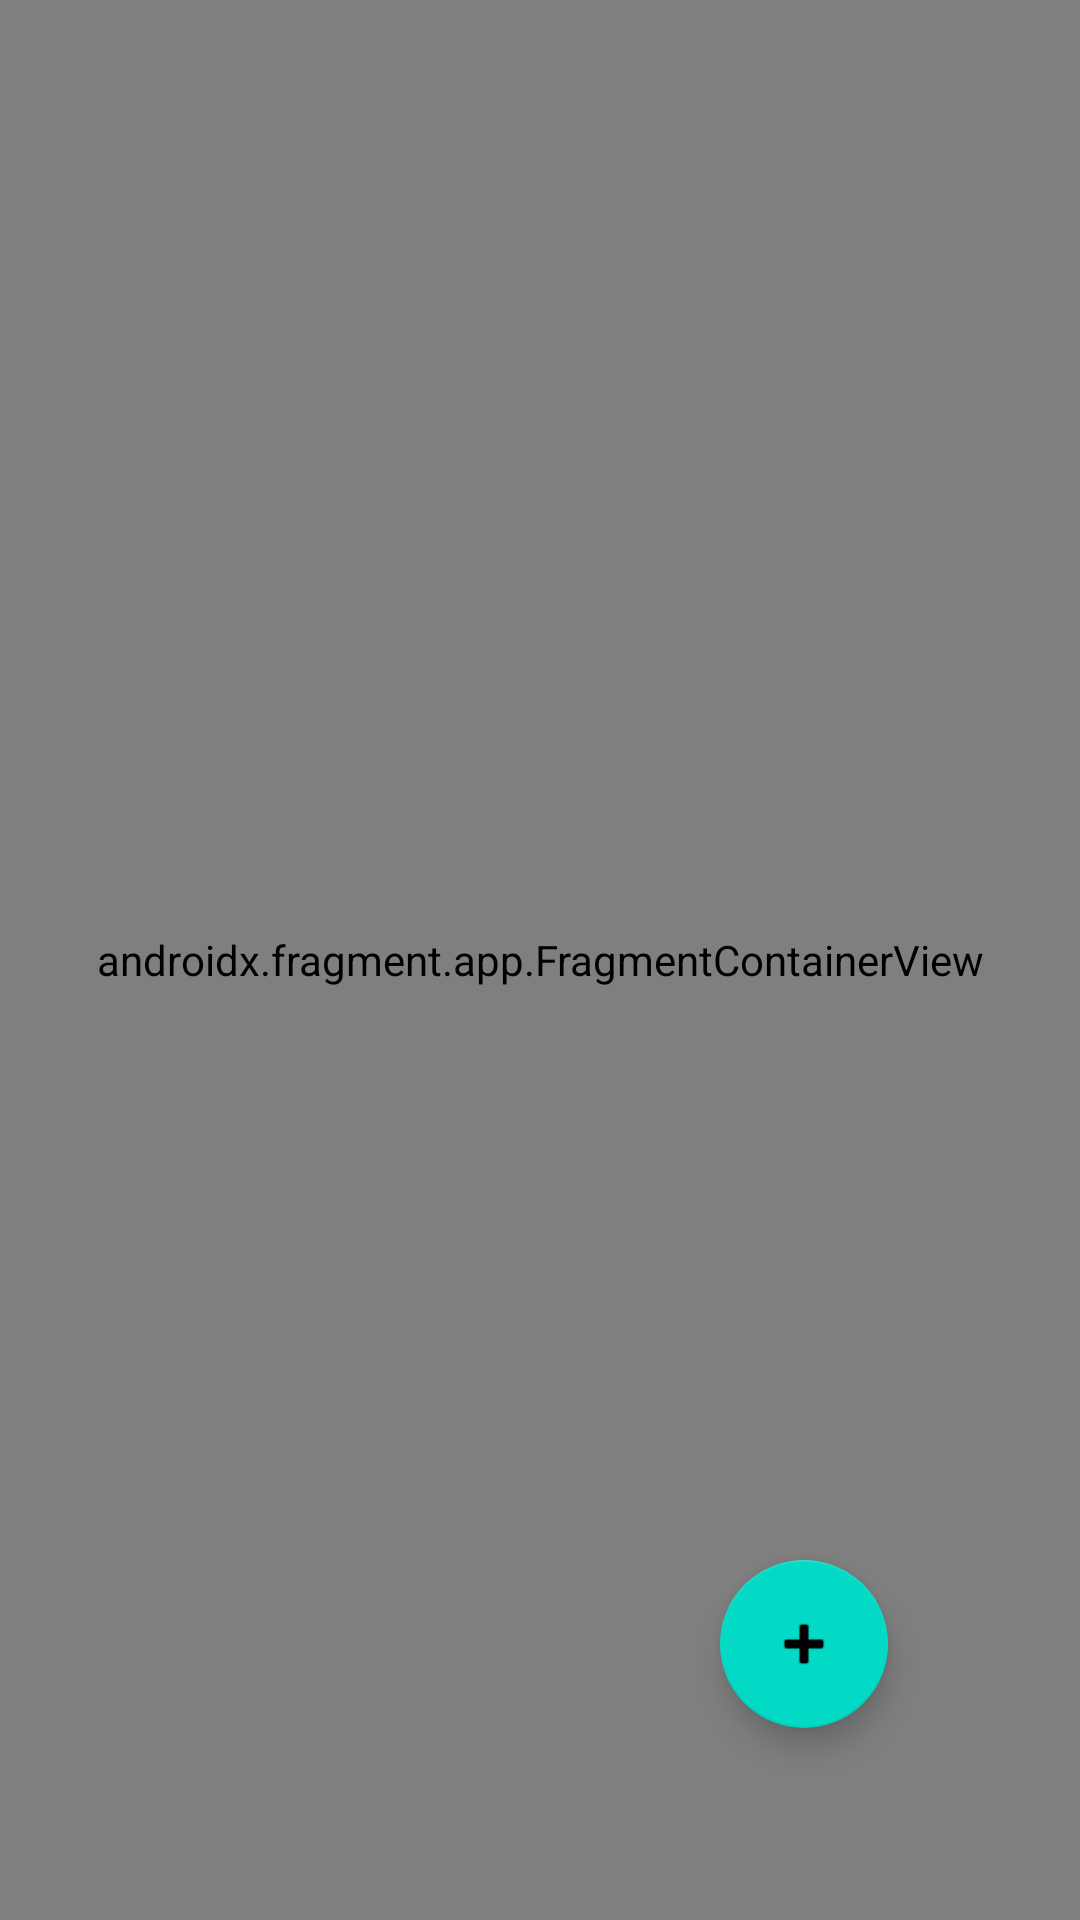

Where to tap for icons on this 1080 x 1920 app screen, as [x,y]:
add: [804,1644]
